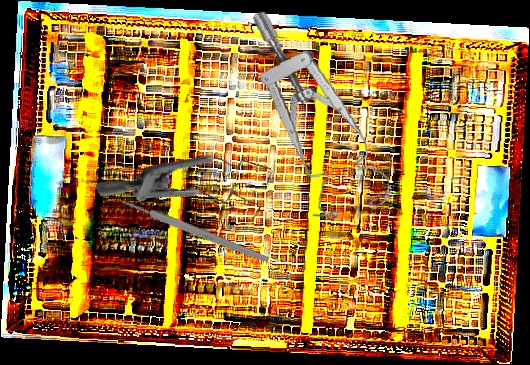Scalpel Handle: (123, 198, 271, 265)
Speculum: (94, 101, 289, 282), (252, 0, 393, 227)
